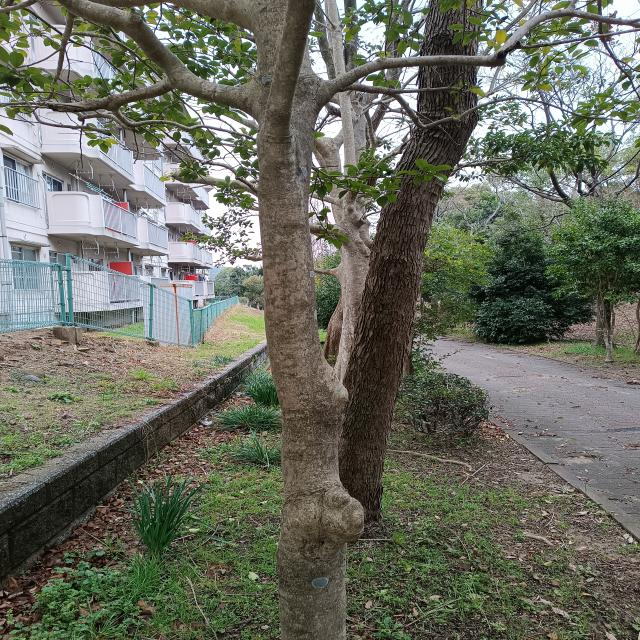Branch: (255, 177, 351, 502), (169, 66, 272, 115)
Twig: (330, 8, 640, 92), (338, 83, 636, 130), (255, 2, 316, 177), (57, 0, 186, 74), (13, 78, 174, 113), (112, 109, 257, 139), (514, 29, 638, 49), (52, 11, 74, 96)
